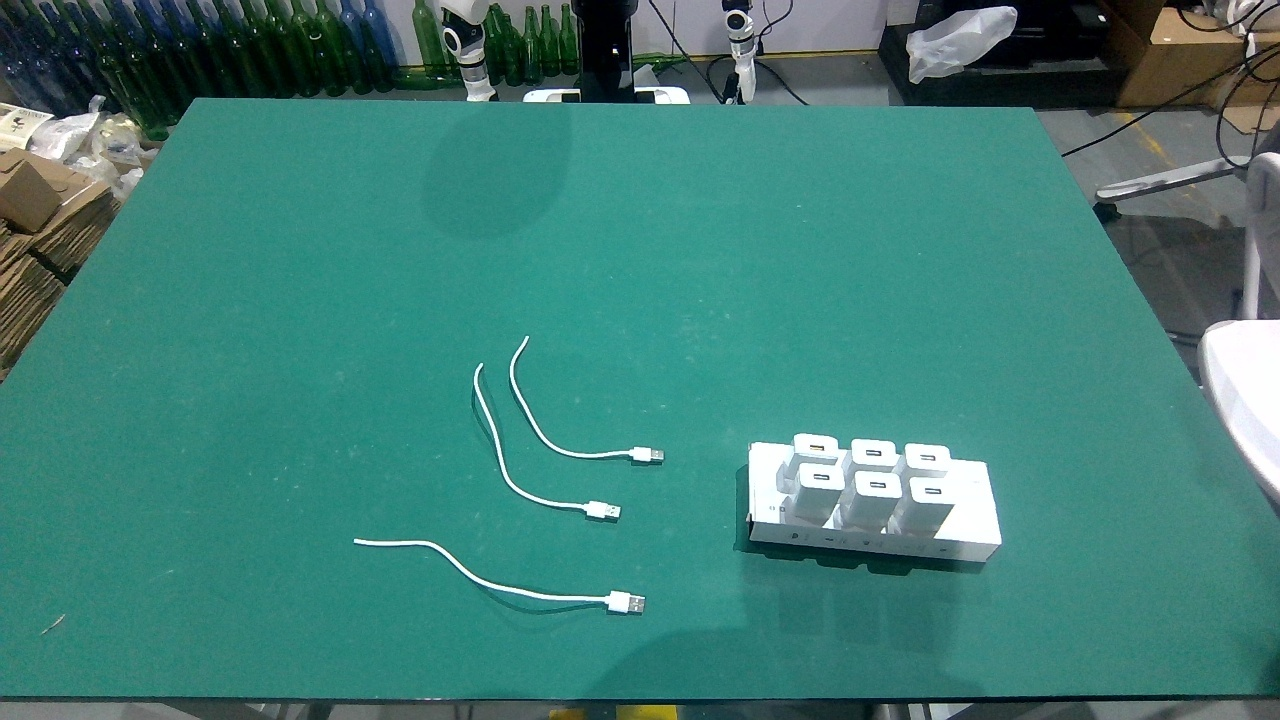usb_a_plug: (590, 588, 646, 614), (573, 499, 622, 521), (615, 445, 665, 463)
